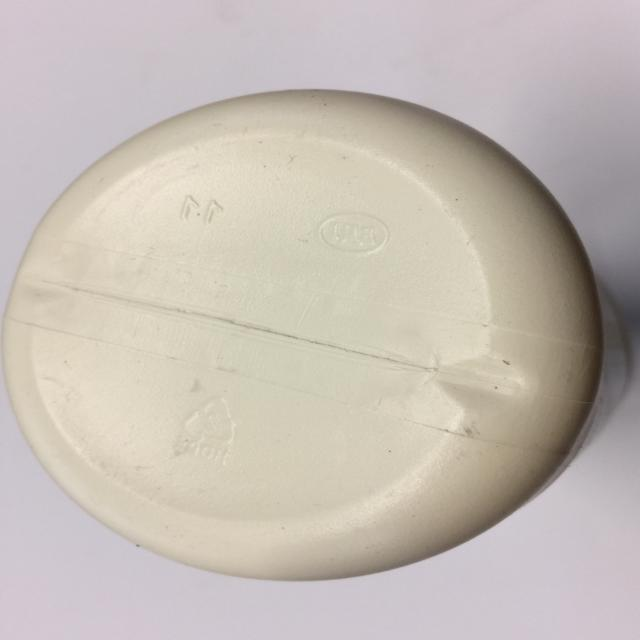plastic: (0, 87, 606, 582)
